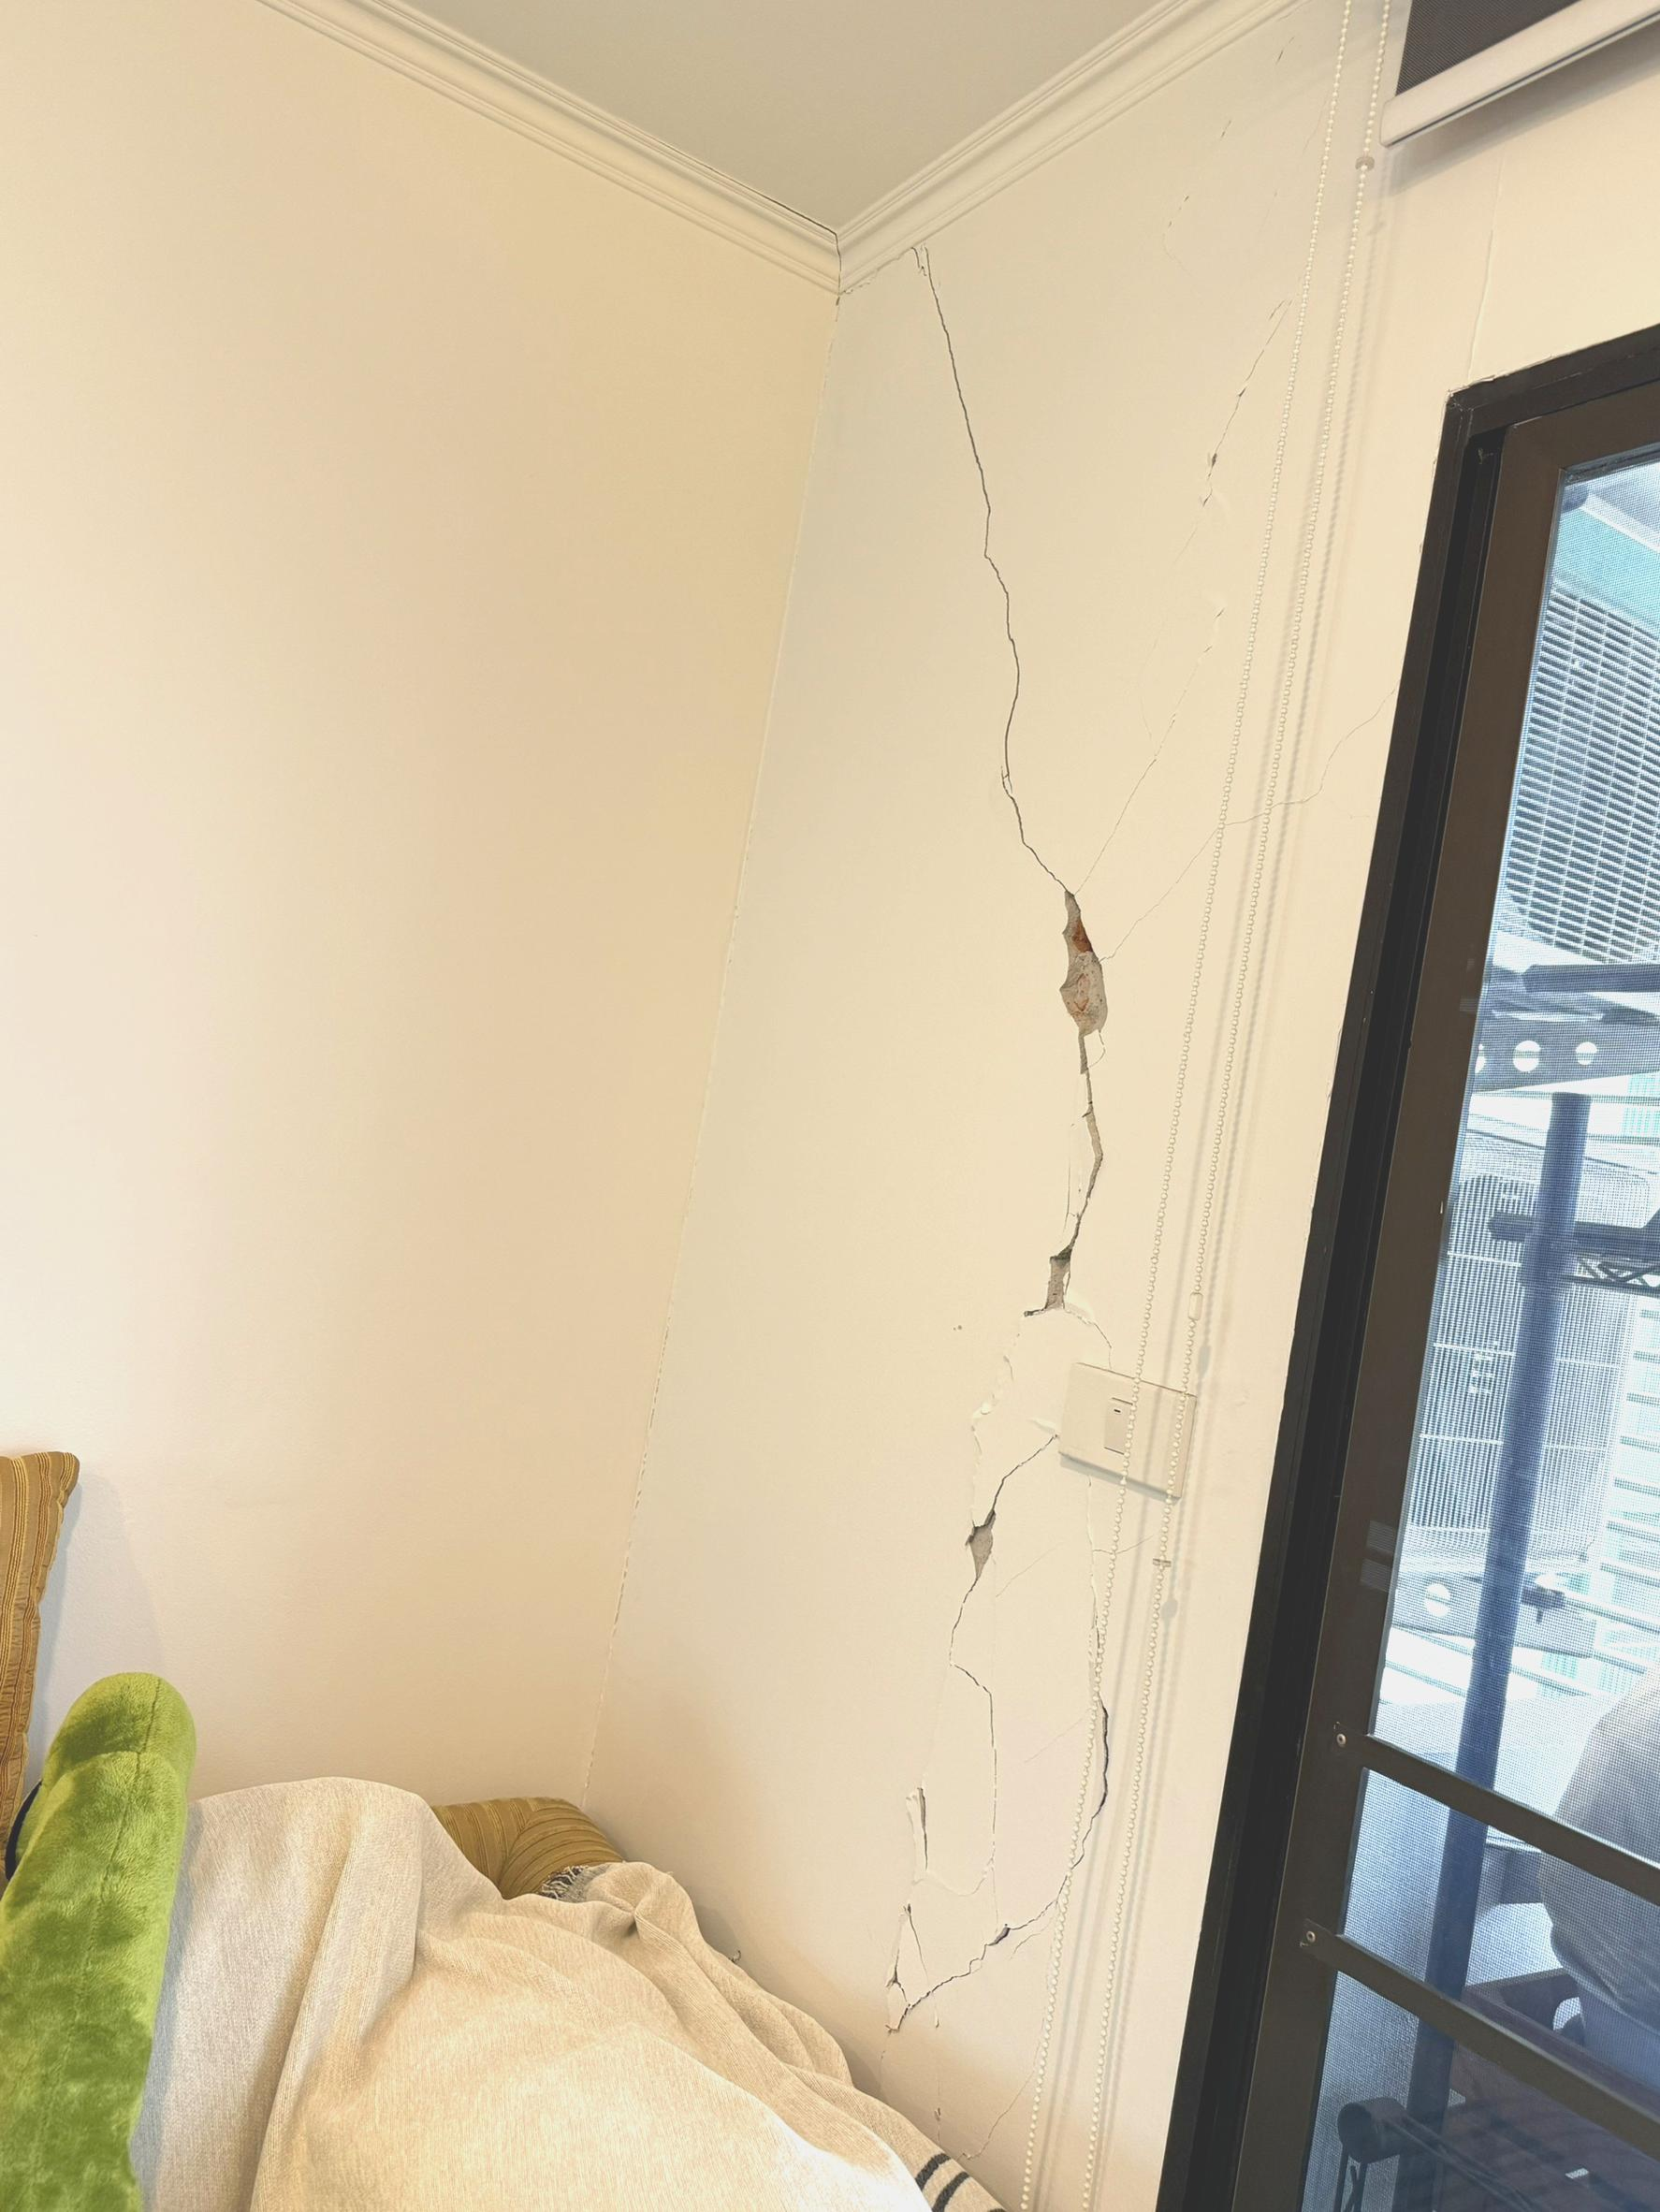High: (804, 207, 1235, 2080)
